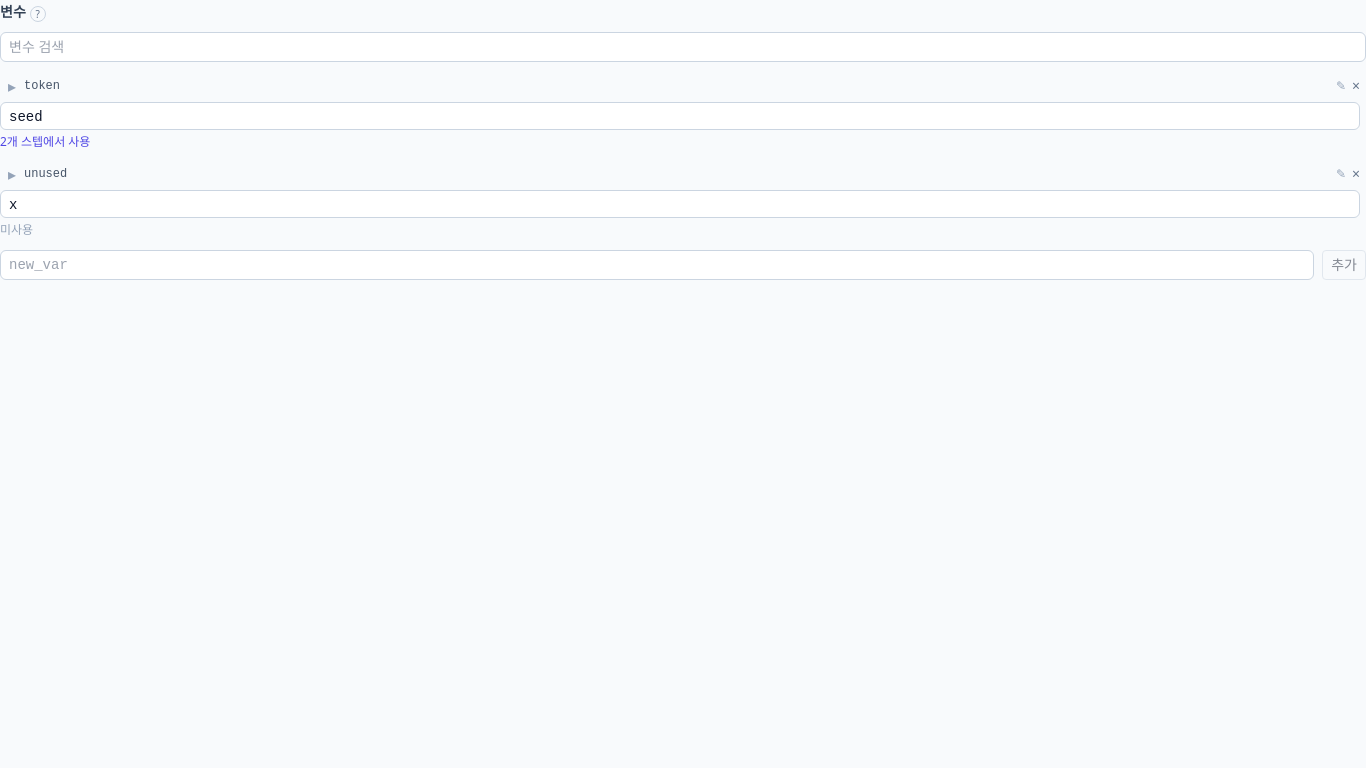
Test case: VariablesPanel — 사용중인 변수 삭제 확인 (var-delete-confirm T4, US1·US2·US3) › US1-b: 다이얼로그 [삭제]가 변수를 지우고 다이얼로그를 닫는다
Click the button "×" in the row of "token" at (1356, 86), box [1352,76,1360,96]
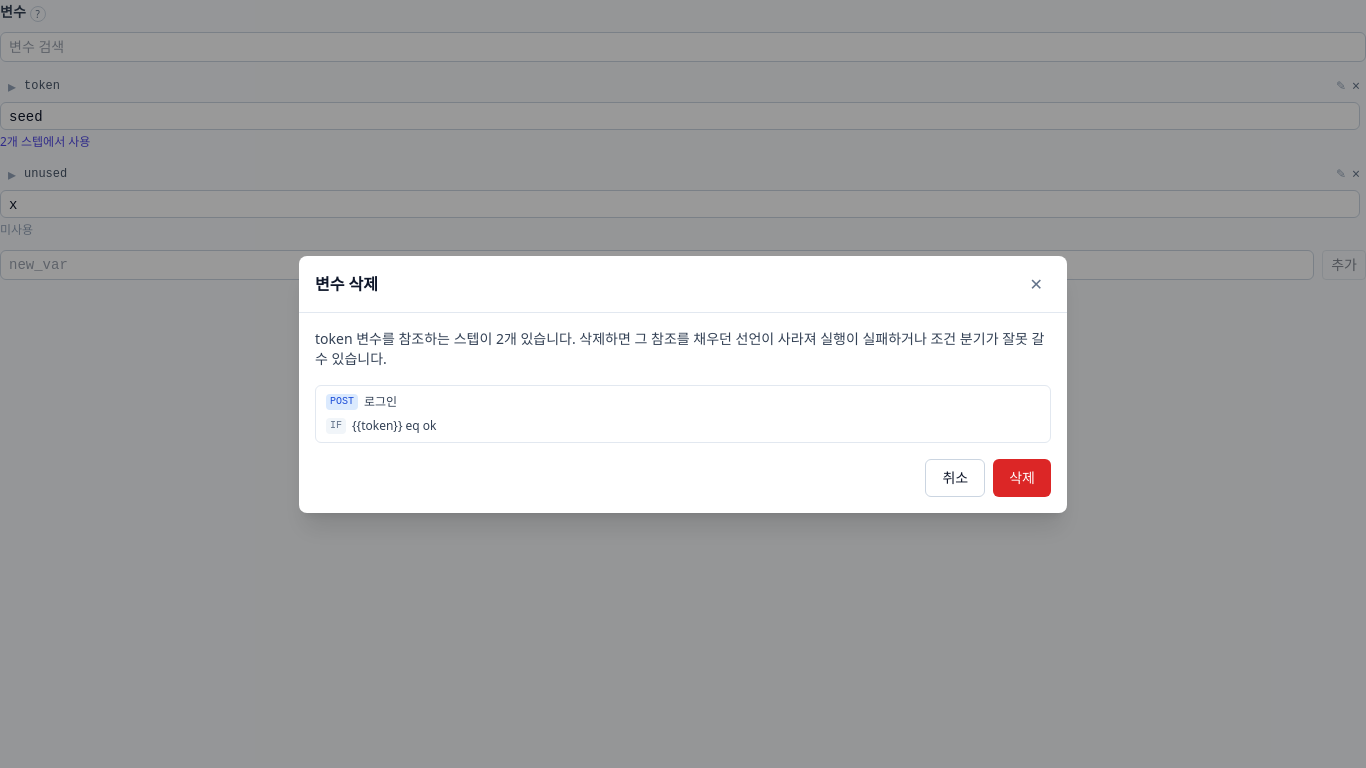
Click the button "삭제" at (1022, 478), box [993,458,1051,496]
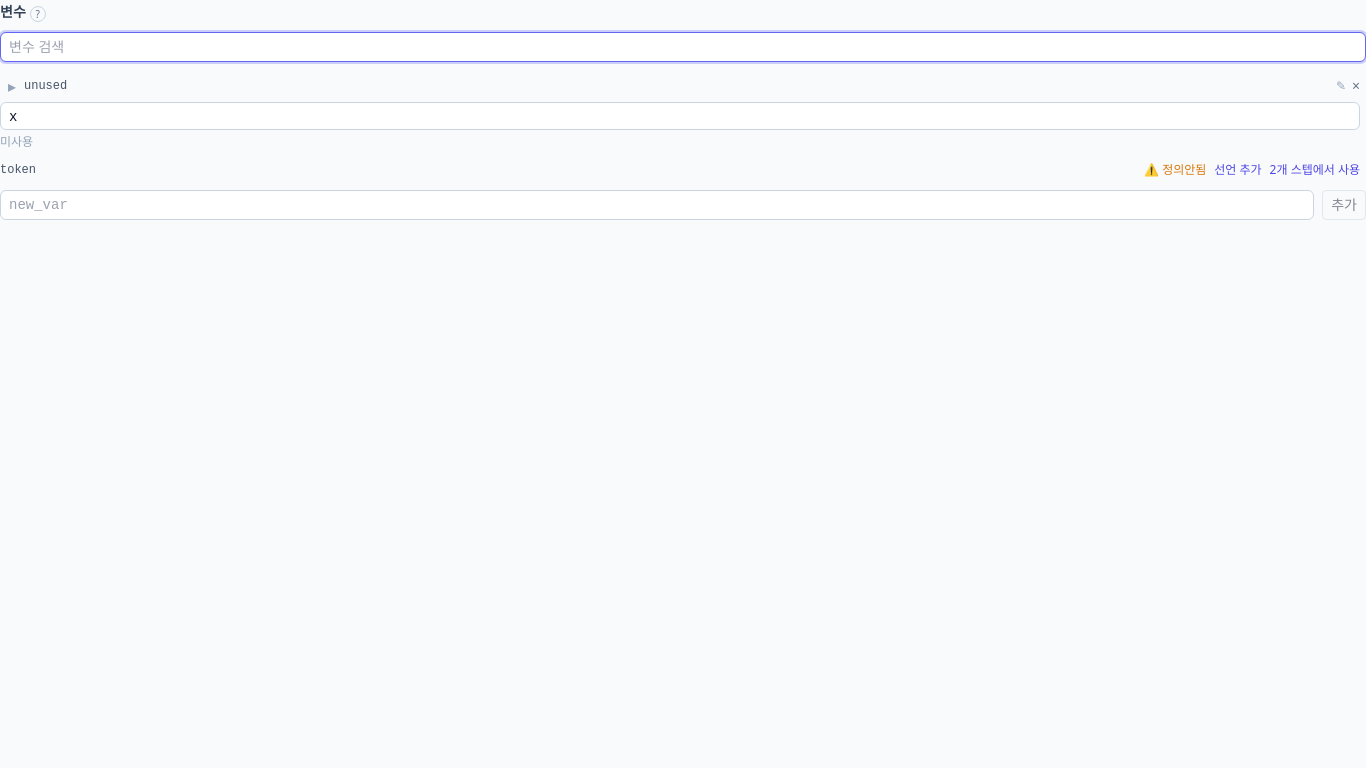
Result: the dialog is gone
